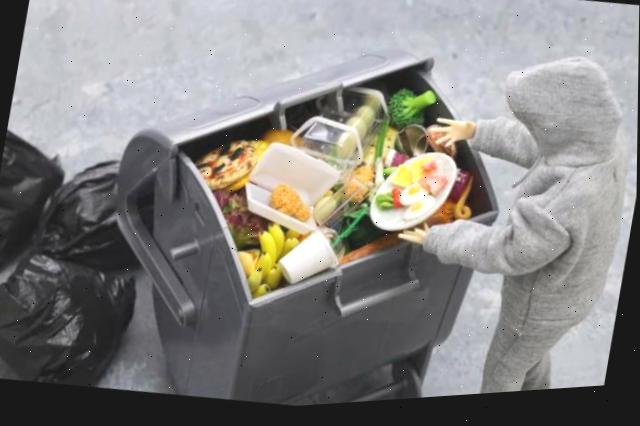Disposable: (246, 147, 341, 238), (371, 159, 458, 236), (279, 235, 337, 288), (377, 181, 396, 199)
Garbage: (185, 76, 497, 301)
Metal: (397, 130, 428, 164)
Plastic: (317, 93, 386, 157), (329, 140, 356, 165)
Plastic_Container: (292, 122, 363, 177)
contaminated_waste: (291, 120, 371, 182), (281, 234, 343, 289)
